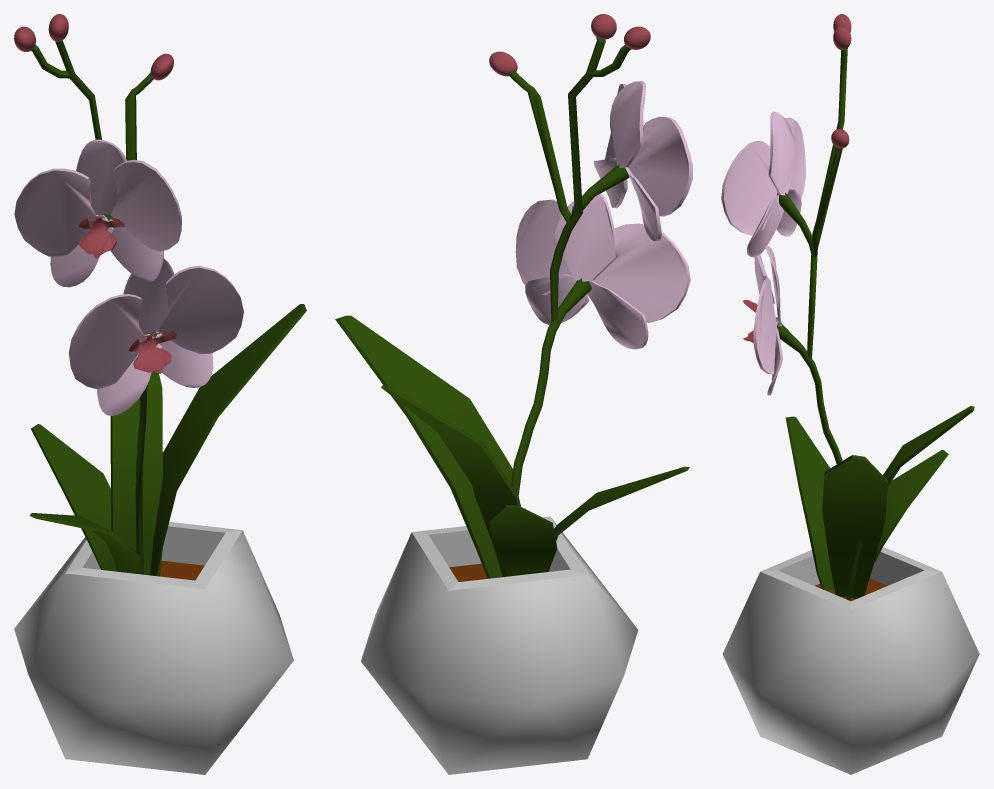
The picture shows the model from 3 angles, left to right: view 1: azimuth 30°, elevation 25°; view 2: azimuth 150°, elevation 25°; view 3: azimuth 270°, elevation 25°; orthographic projection. The views are drawn at different scales.
Parts seen in each view (by area): view 1: Box003; view 2: Box003; view 3: Box003.
Boxes of the visible parts, x1=… form: Box003: x1=14, y1=14, x2=306, y2=774; Box003: x1=335, y1=14, x2=692, y2=774; Box003: x1=721, y1=14, x2=979, y2=774.
Bounding box in the file's own units: 53.65 × 119 × 41.57.
Materials: 1 (1 with a texture image).
